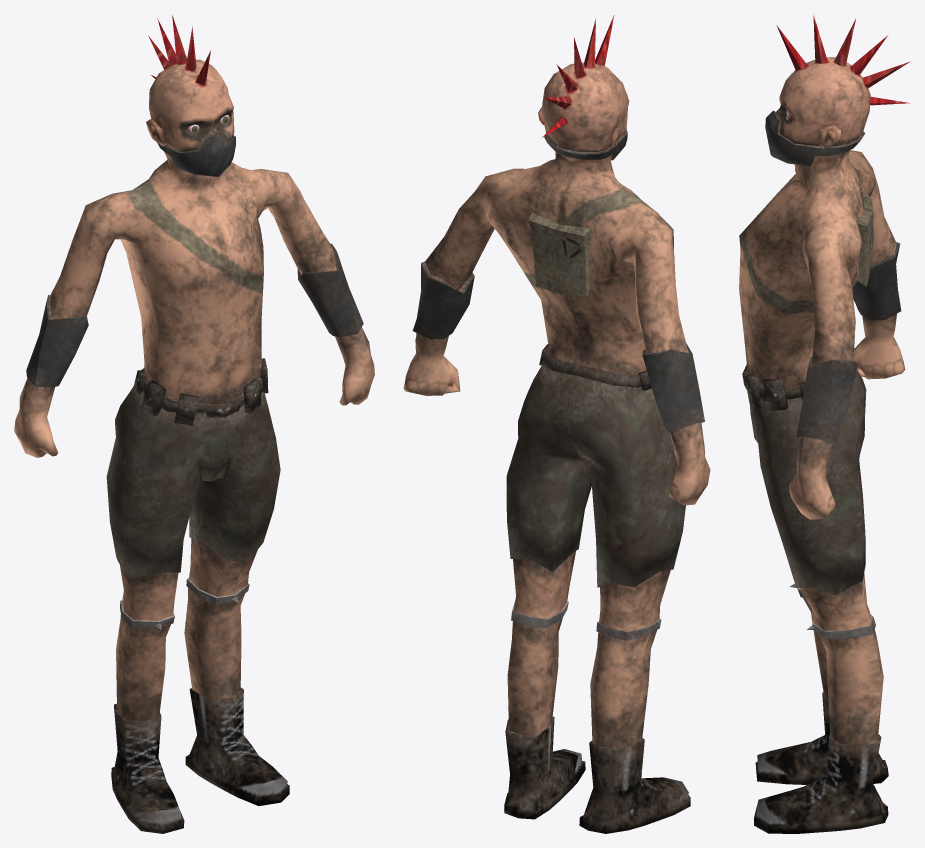
The model's file is Anim_ataque_d1_npc2.0034.obj.
3 views of the same model, side by side, from view 1: azimuth 30°, elevation 25°; view 2: azimuth 150°, elevation 25°; view 3: azimuth 270°, elevation 25° (orthographic).
Parts seen in each view (by area): view 1: polySurface1; view 2: polySurface1; view 3: polySurface1.
Boxes of the visible parts, bbox=[...] form: polySurface1: bbox=[14, 15, 374, 833]; polySurface1: bbox=[403, 15, 710, 833]; polySurface1: bbox=[739, 14, 910, 833].
Bounding box in the file's own units: 4.46 × 10.21 × 2.03.
